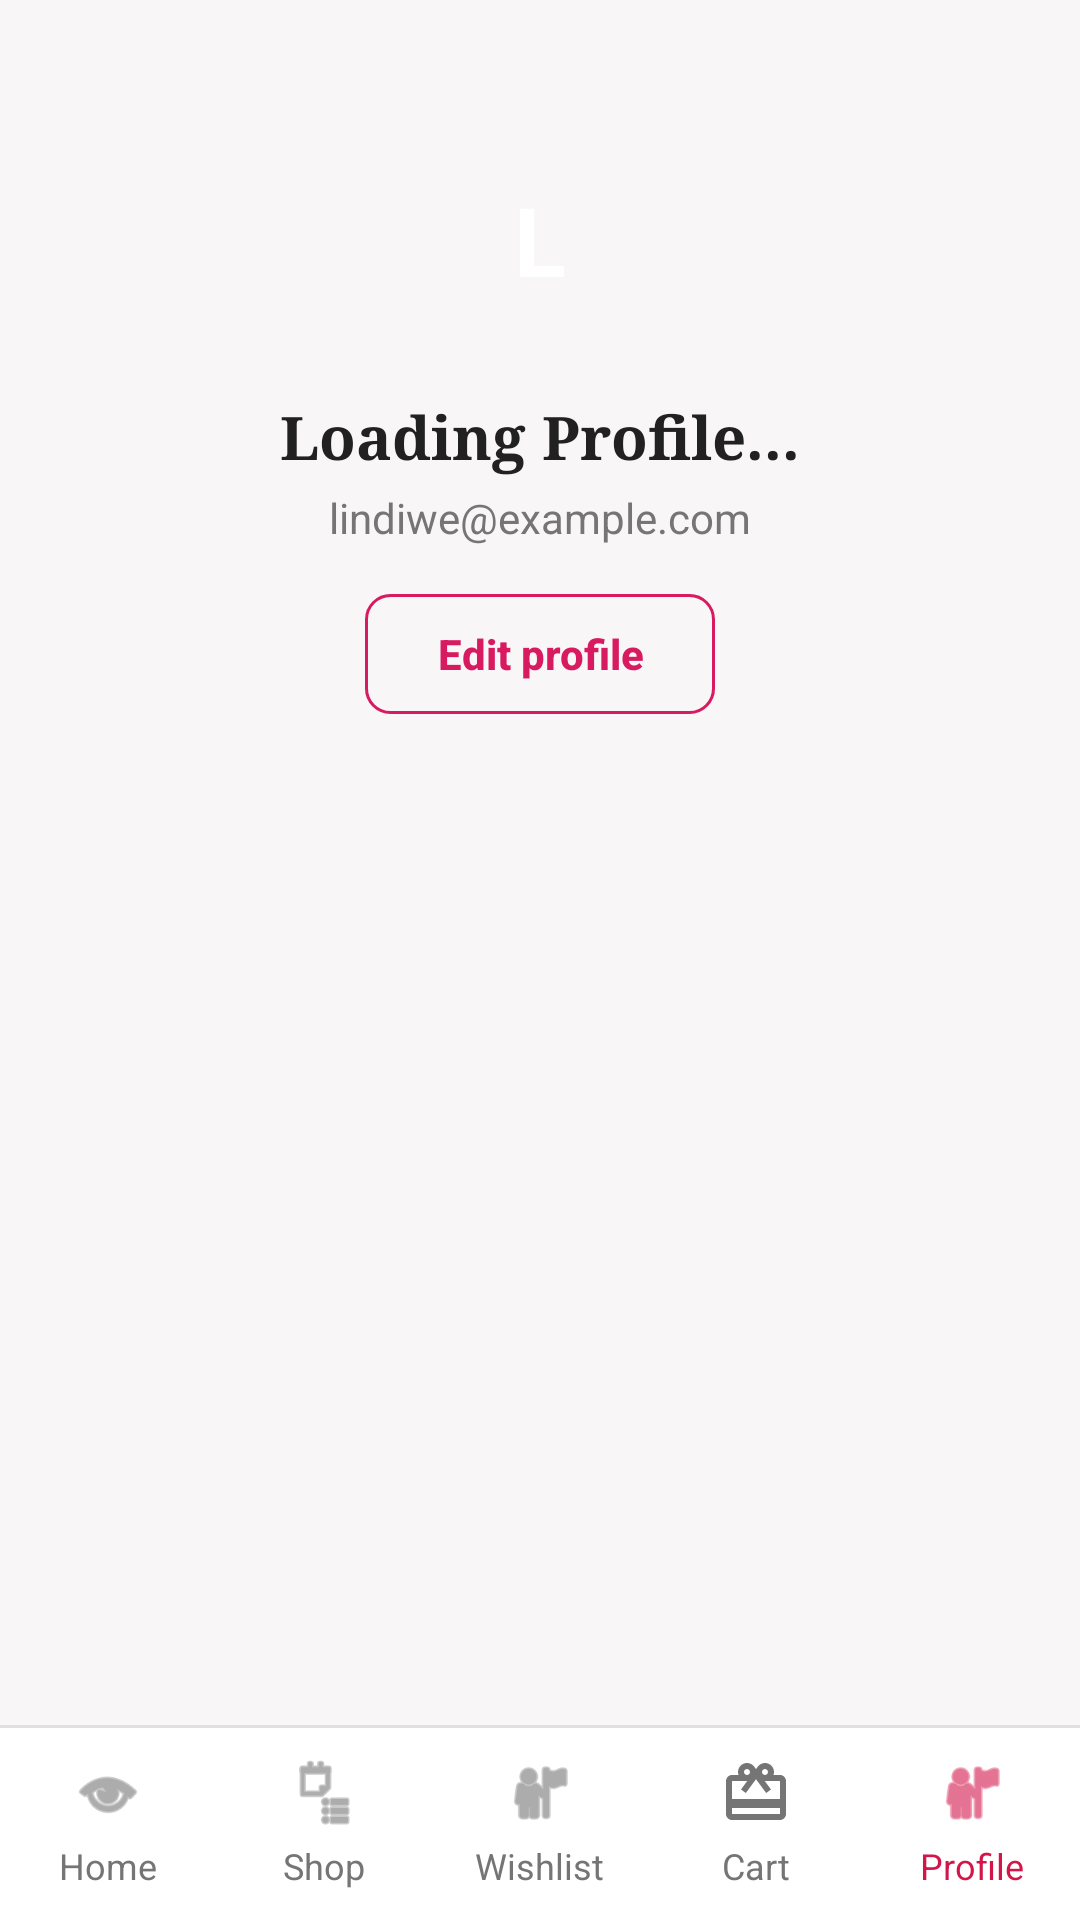

Named icons in this screenshot (1080px x 1920px) and their centers, [x,y]:
agenda: [324,1793]
gift: [756,1791]
myplaces: [541,1793], [973,1793]
view: [108,1795]
